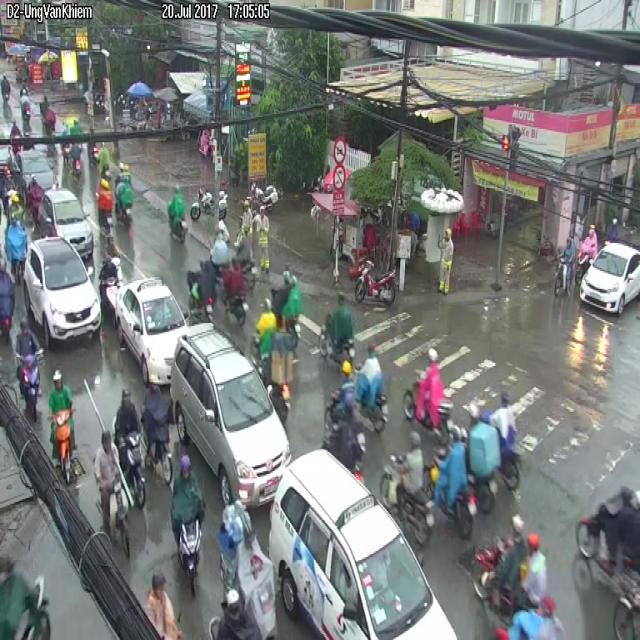car: (172, 452, 204, 593), (50, 370, 72, 483)
traffic-light: (269, 449, 457, 639), (171, 326, 290, 502), (22, 237, 98, 347), (115, 280, 188, 384), (580, 243, 639, 314), (42, 188, 93, 268)
